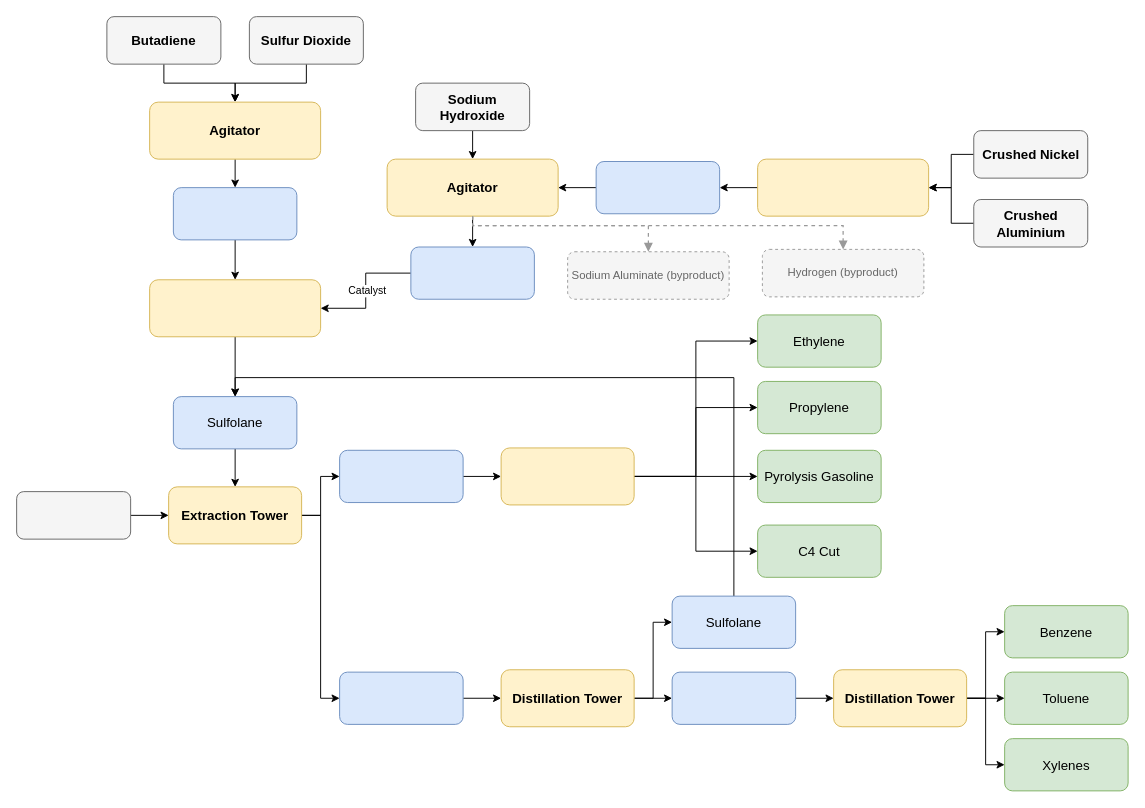
The diagram is 1145 pixels wide and 808 high, and some of its shapes have lost their labels. The shapes that lost their labels are listed below. From the top down, each one's centre as x and y in pixels, then its label:
the point at 657,187: Nickel-Aluminium Powder
the point at 843,187: Crafting
the point at 234,213: Sulfolene
the point at 472,272: Raney Nickel Catalyst
the point at 235,308: Catalytic Chamber
the point at 401,476: Aliphatic Raffinate
the point at 567,476: Thermal Cracker
the point at 73,515: Reformate
the point at 401,697: Aromatics Solution
the point at 733,697: BTX Mixture
